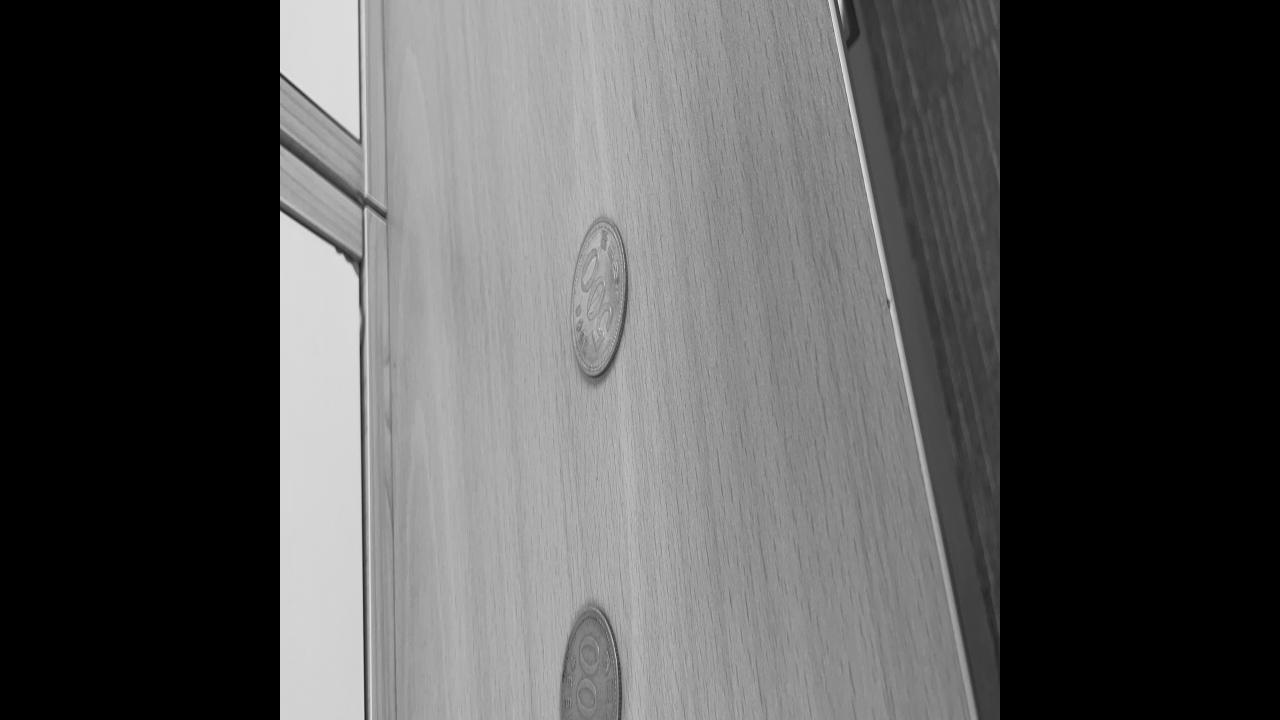coin: (568, 210, 628, 380), (559, 604, 622, 720)
